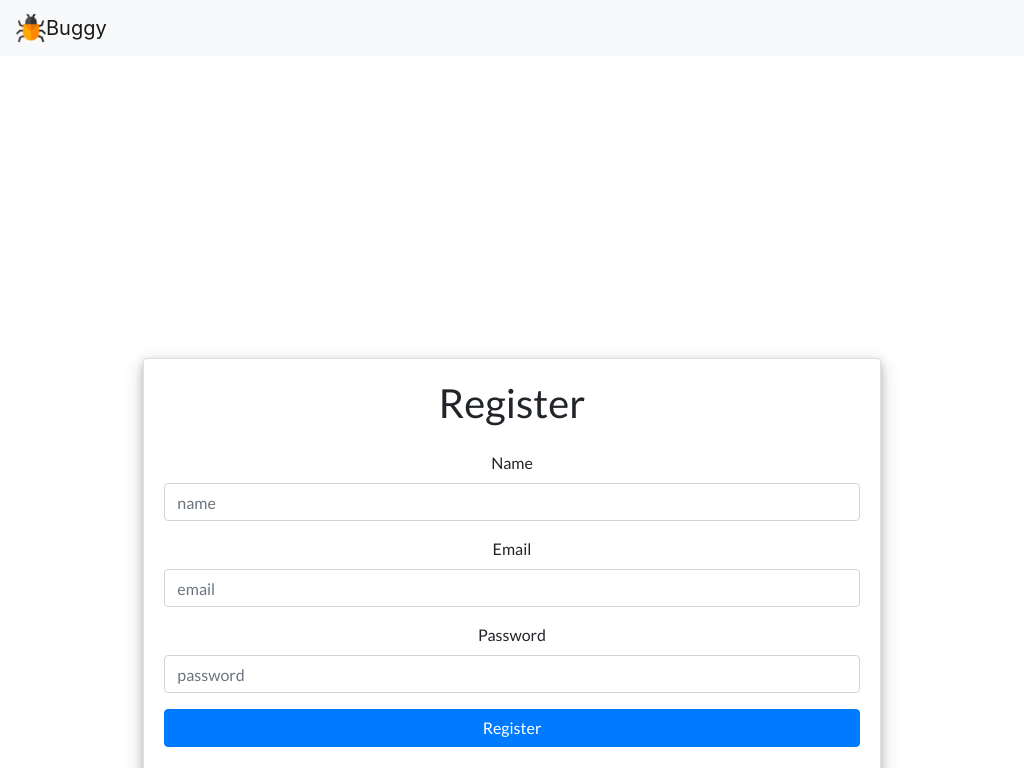
renders the login page › returns error if to short name
Type "a" into the field with placeholder "name".
click(512, 502); type("a")  # box [164,483,859,521]
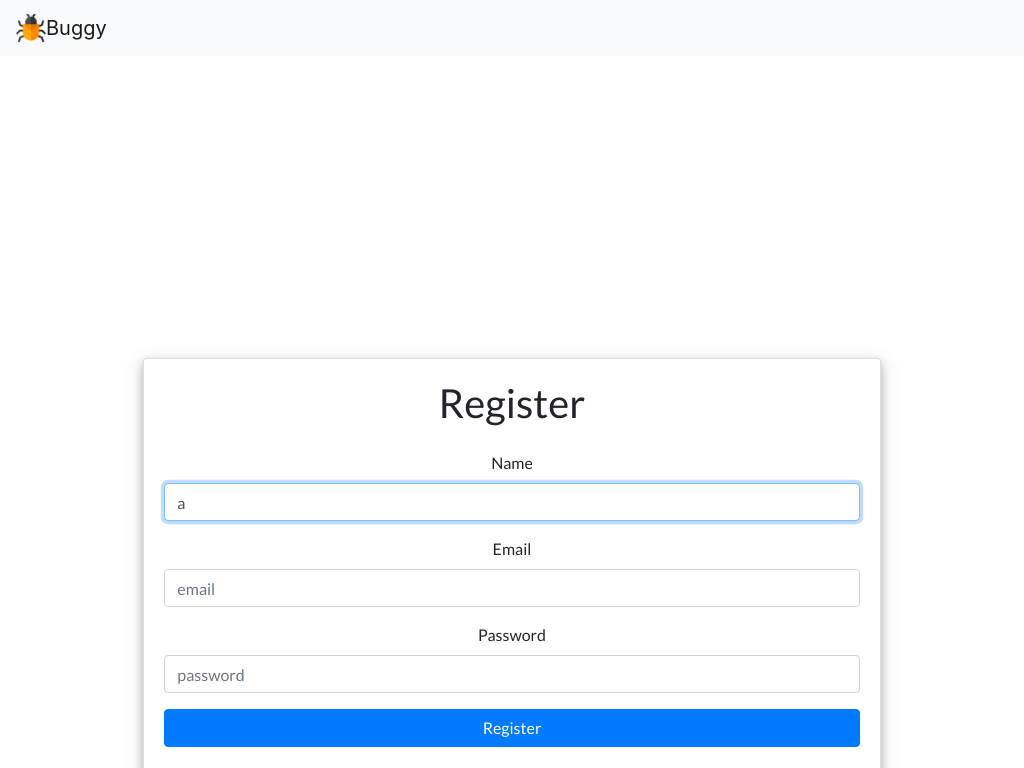
Click the button "Register".
click(512, 728)  # box [164,709,859,747]
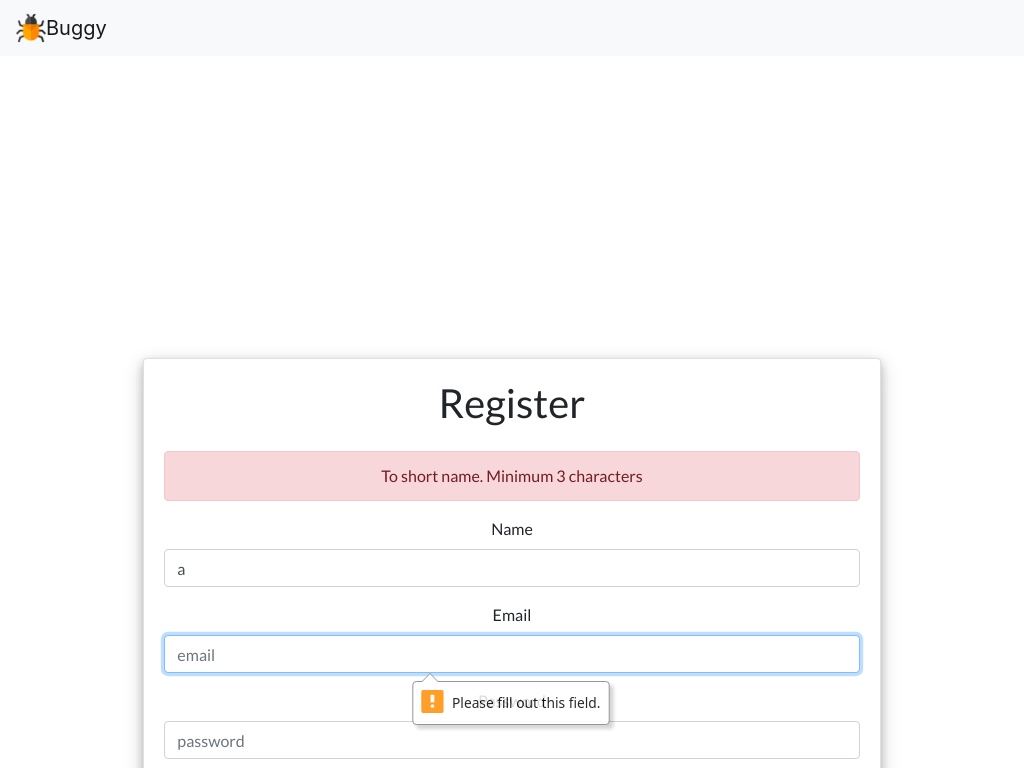
Expected: the text "To short name. Minimum 3 characters" is shown, [164,451,860,501]
